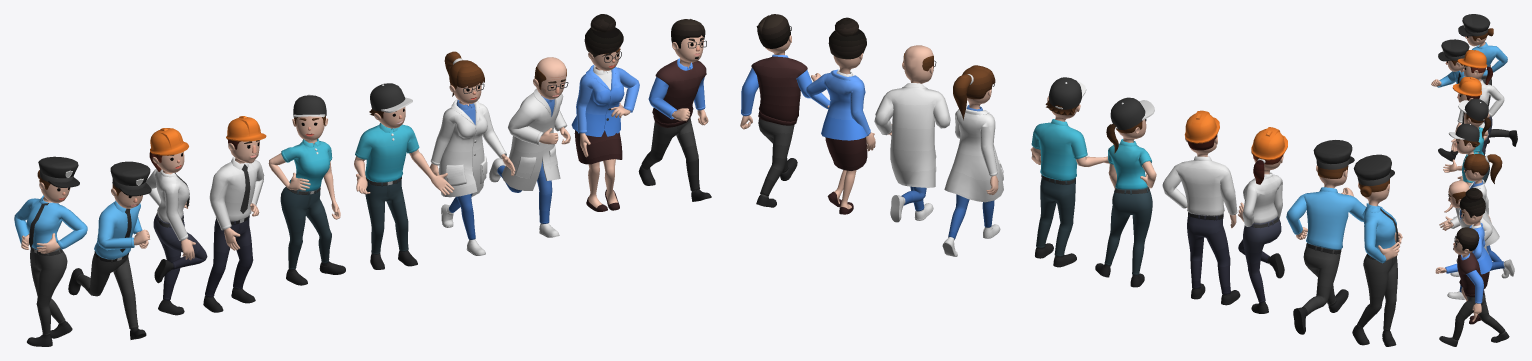
File: hyper-casual-characters-3-activities.fbx
3 views of the same model, side by side, from view 1: azimuth 30°, elevation 25°; view 2: azimuth 150°, elevation 25°; view 3: azimuth 270°, elevation 25° (orthographic). The views are drawn at different scales.
Parts seen in each view (by area): view 1: Delivery Man_Delivery Man.001_0, Teacher Woman_Teacher_0, Delivery Woman.001_Doctor_0, Delivery Woman_Delivery Man.001_0, Engineer Man_Engineer_0, Police Woman_Police_0, Doctor Male_Doctor_0, Teacher Man_Teacher_0, Police Man_Police_0, Engineer Woman_Engineer_0; view 2: Doctor Male_Doctor_0, Engineer Man_Engineer_0, Police Man_Police_0, Teacher Man_Teacher_0, Delivery Man_Delivery Man.001_0, Delivery Woman.001_Doctor_0, Teacher Woman_Teacher_0, Delivery Woman_Delivery Man.001_0, Police Woman_Police_0, Engineer Woman_Engineer_0; view 3: Teacher Man_Teacher_0, Delivery Woman.001_Doctor_0, Teacher Woman_Teacher_0, Police Man_Police_0, Police Woman_Police_0, Engineer Woman_Engineer_0, Doctor Male_Doctor_0, Delivery Woman_Delivery Man.001_0, Delivery Man_Delivery Man.001_0, Engineer Man_Engineer_0.
Part boxes in pixels (box(x1,y1,x2,y2)): Delivery Man_Delivery Man.001_0: box(354, 83, 454, 269); Teacher Woman_Teacher_0: box(571, 14, 639, 211); Delivery Woman.001_Doctor_0: box(429, 51, 515, 255); Delivery Woman_Delivery Man.001_0: box(268, 94, 345, 285); Engineer Man_Engineer_0: box(203, 116, 266, 312); Police Woman_Police_0: box(14, 156, 87, 346); Doctor Male_Doctor_0: box(489, 57, 570, 237); Teacher Man_Teacher_0: box(638, 19, 711, 201); Police Man_Police_0: box(68, 161, 151, 339); Engineer Woman_Engineer_0: box(146, 128, 207, 315); Doctor Male_Doctor_0: box(874, 45, 950, 222); Engineer Man_Engineer_0: box(1162, 110, 1240, 305); Police Man_Police_0: box(1286, 140, 1366, 334); Teacher Man_Teacher_0: box(740, 14, 820, 207); Delivery Man_Delivery Man.001_0: box(1030, 77, 1109, 267); Delivery Woman.001_Doctor_0: box(942, 65, 1003, 256); Teacher Woman_Teacher_0: box(806, 17, 875, 214); Delivery Woman_Delivery Man.001_0: box(1095, 97, 1156, 287); Police Woman_Police_0: box(1352, 154, 1402, 346); Engineer Woman_Engineer_0: box(1238, 127, 1287, 313); Teacher Man_Teacher_0: box(1435, 227, 1509, 346); Delivery Woman.001_Doctor_0: box(1439, 154, 1509, 278); Teacher Woman_Teacher_0: box(1459, 188, 1492, 324); Police Man_Police_0: box(1431, 39, 1517, 161); Police Woman_Police_0: box(1458, 14, 1507, 143); Engineer Woman_Engineer_0: box(1455, 50, 1504, 148); Doctor Male_Doctor_0: box(1443, 180, 1514, 299); Delivery Woman_Delivery Man.001_0: box(1457, 98, 1491, 183); Delivery Man_Delivery Man.001_0: box(1443, 123, 1479, 212); Engineer Man_Engineer_0: box(1451, 77, 1488, 155).
Size of the model in its own units: 621 by 171 by 102.
5 materials, 5 textured.
